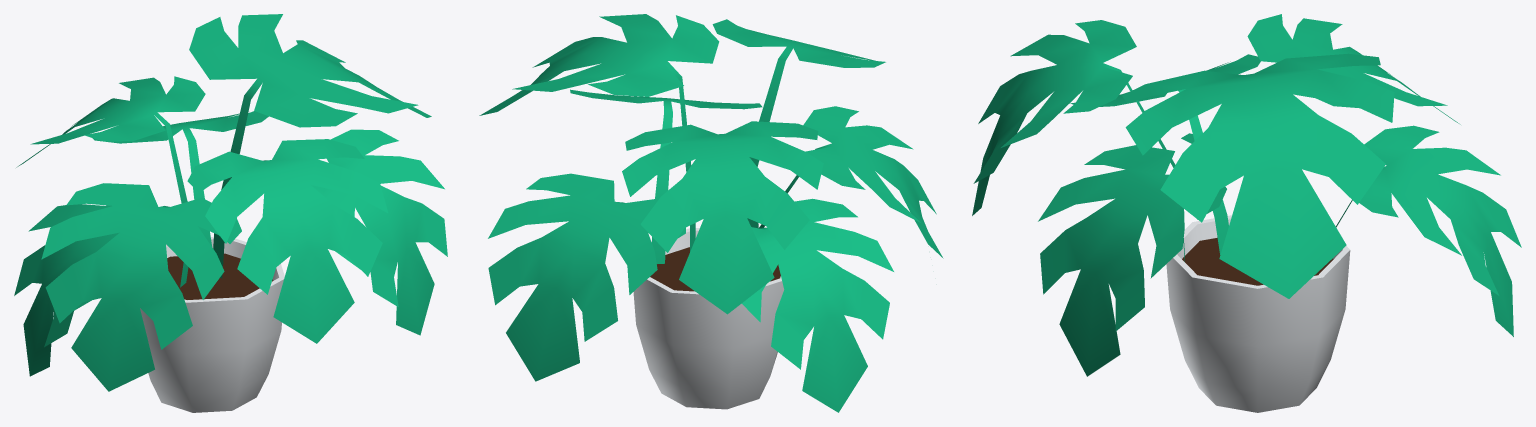
The model's file is houseplant_large.glb.
The picture shows the model from 3 angles, left to right: view 1: azimuth 30°, elevation 25°; view 2: azimuth 150°, elevation 25°; view 3: azimuth 270°, elevation 25°; orthographic projection. The views are drawn at different scales.
Parts seen in each view (by area): view 1: Houseplant_7; view 2: Houseplant_7; view 3: Houseplant_7.
Boxes of the visible parts, x1,y1,x2,y2 form: Houseplant_7: [14, 14, 447, 412]; Houseplant_7: [479, 14, 943, 412]; Houseplant_7: [972, 14, 1521, 412].
Bounding box in the file's own units: 1.03 × 0.78 × 1.08.
